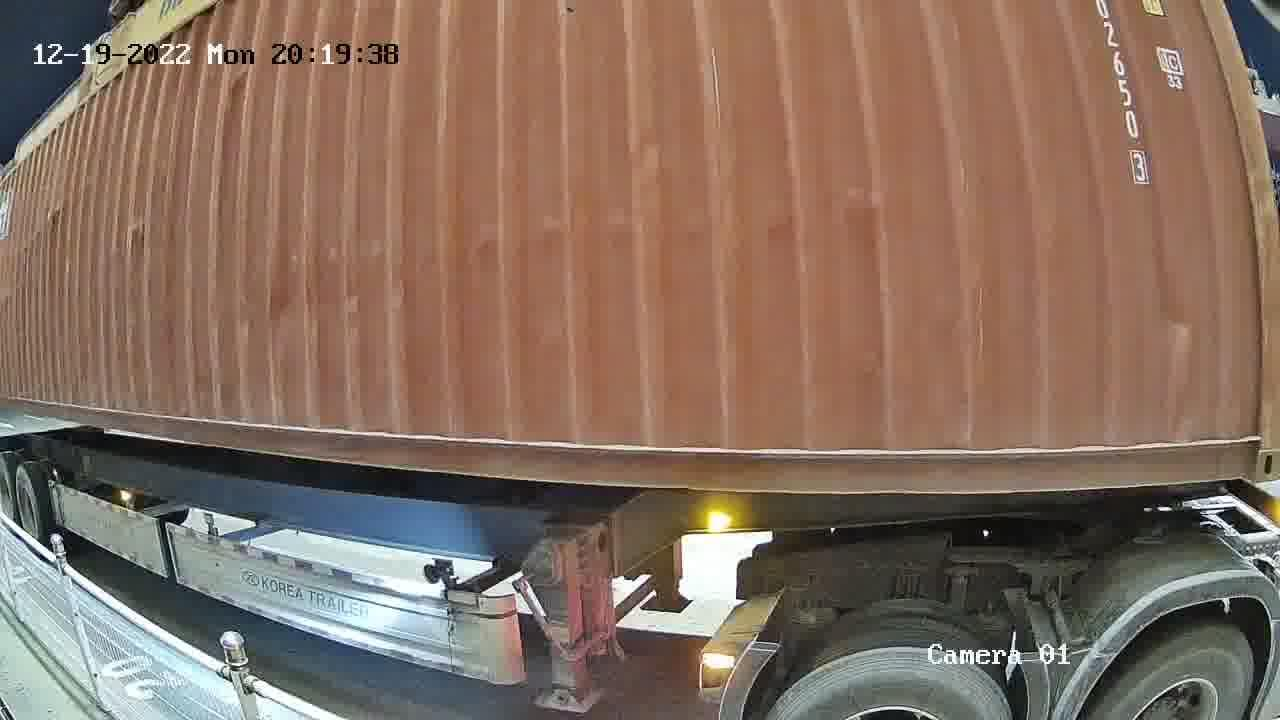Hole_R: (1210, 403, 1279, 481)
Tire: (764, 647, 1013, 717), (1095, 630, 1253, 717)
